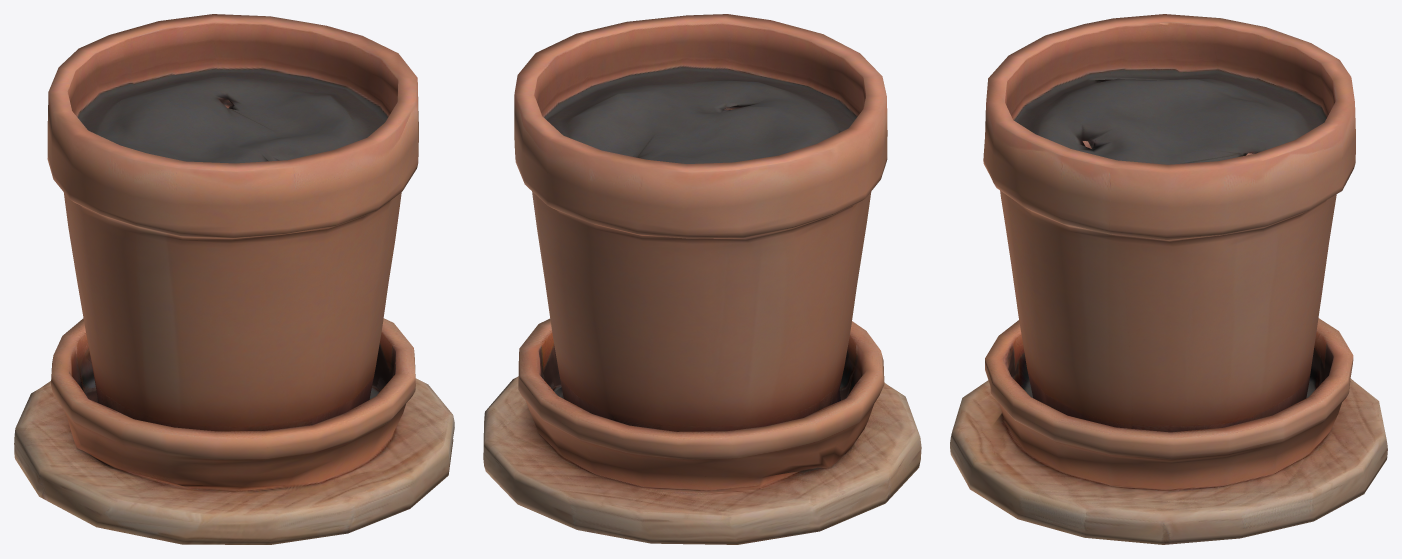
Rendered from pot_terracotta_wood.glb.
The picture shows the model from 3 angles, left to right: view 1: azimuth 30°, elevation 25°; view 2: azimuth 150°, elevation 25°; view 3: azimuth 270°, elevation 25°; orthographic projection.
Bounding box in the file's own units: 2 × 1.8 × 1.99.
Materials: 1 (1 with a texture image).
